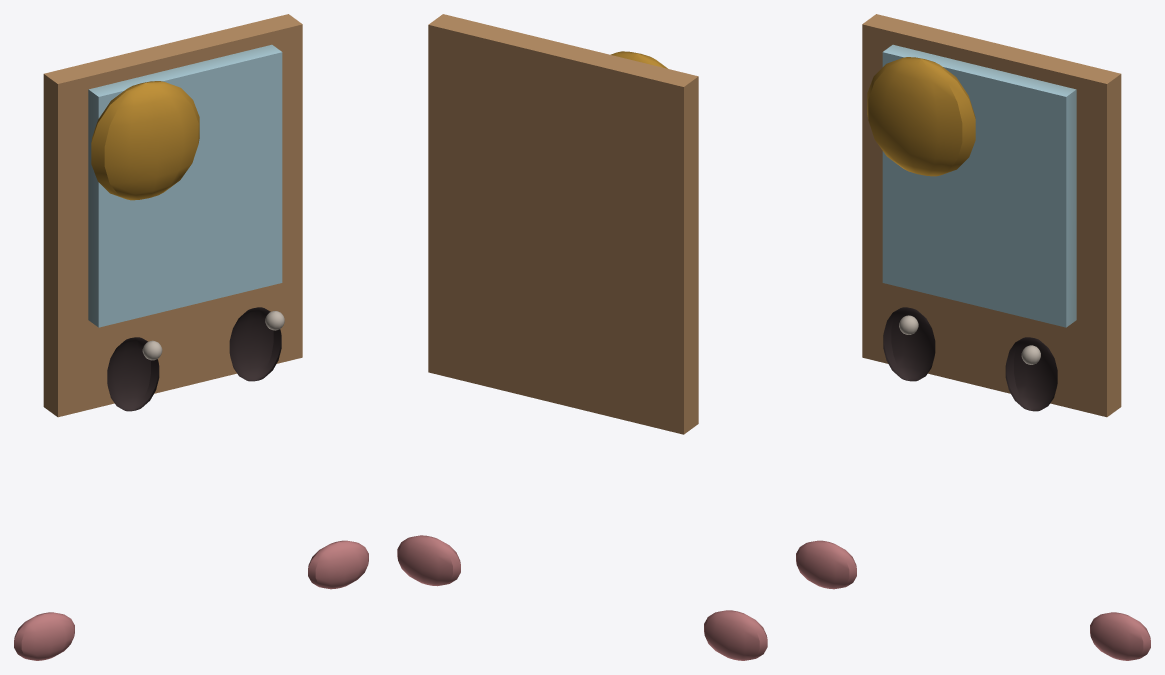
3 views of the same model, side by side, from view 1: azimuth 30°, elevation 25°; view 2: azimuth 150°, elevation 25°; view 3: azimuth 330°, elevation 25° (orthographic). The views are drawn at different scales.
Visible parts, largest first — view 1: pet_pc67ba833; view 2: pet_pc67ba833; view 3: pet_pc67ba833.
Boxes of the visible parts, x1,y1,x2,y2 form: pet_pc67ba833: (14,14,368,660); pet_pc67ba833: (397,14,767,660); pet_pc67ba833: (796,14,1150,660).
Size of the model in its own units: 0.2896 by 0.4376 by 0.0609.
